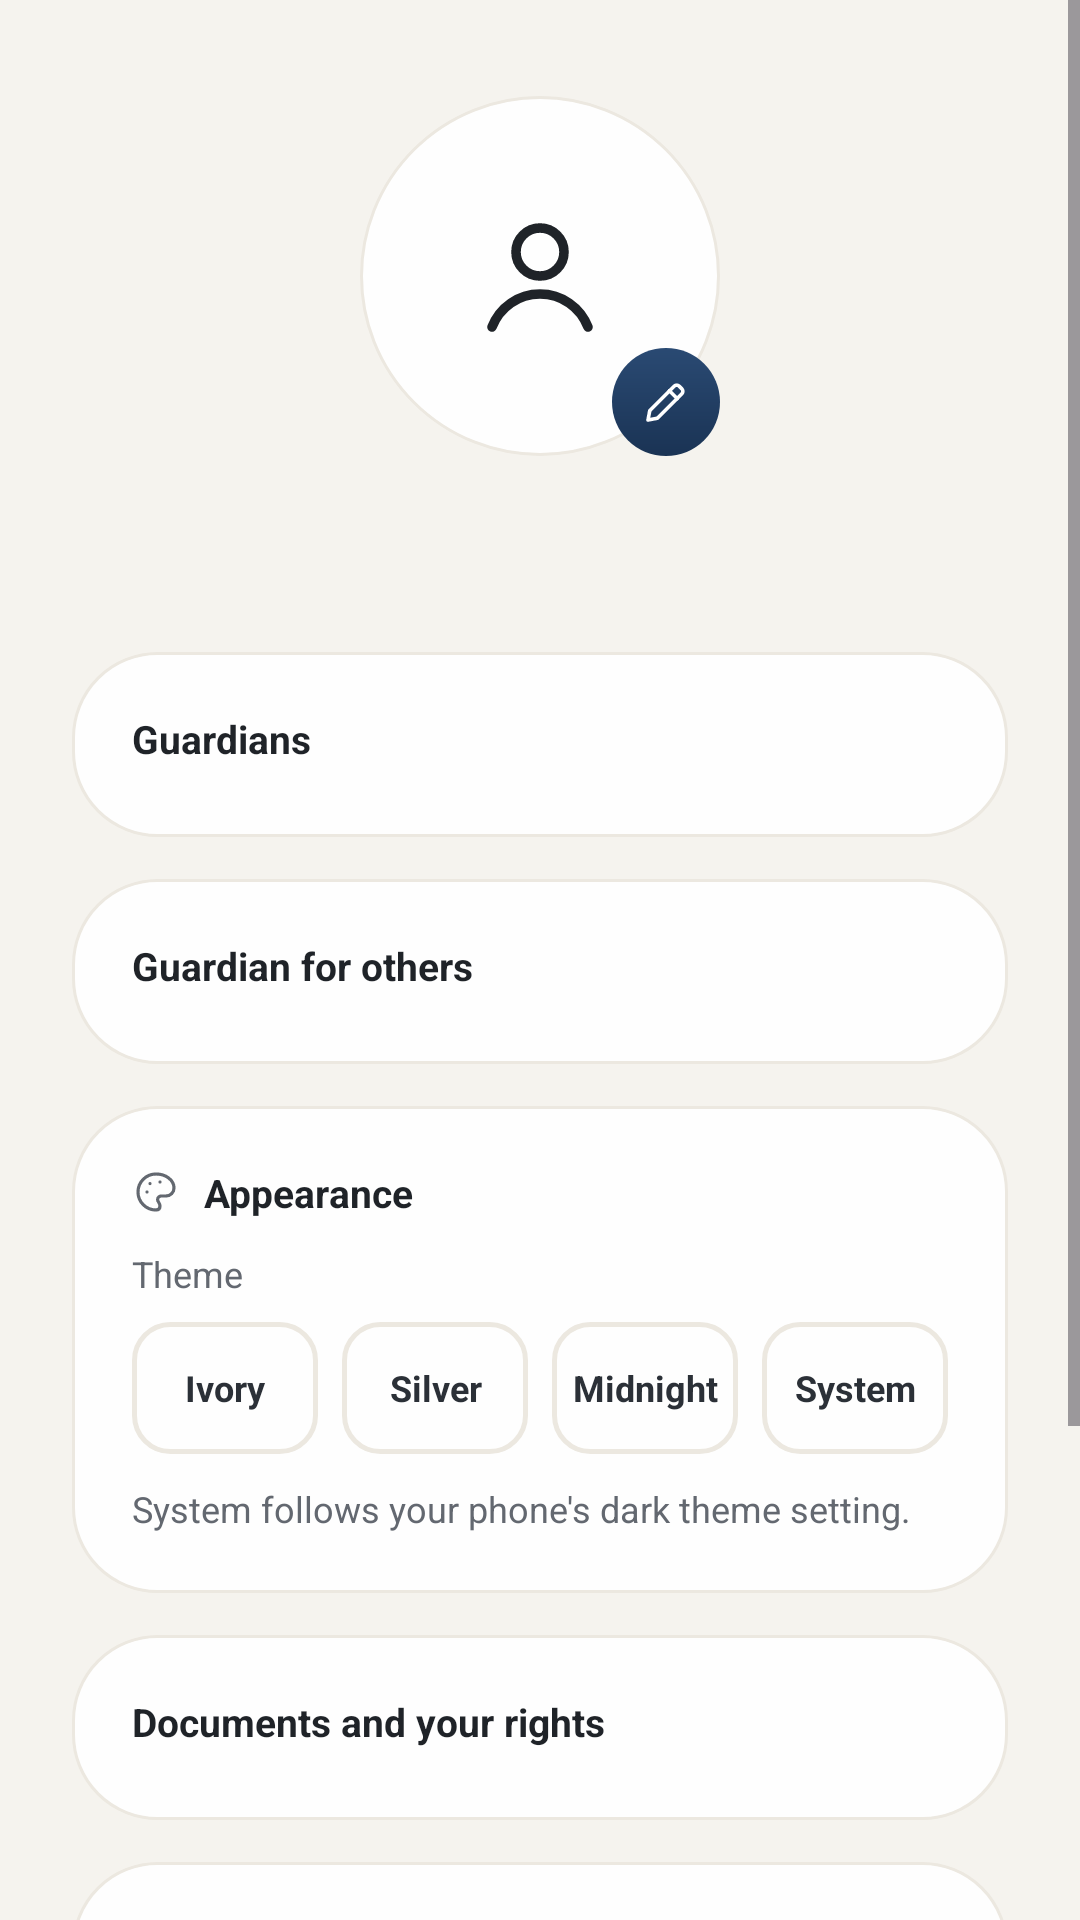

Named icons in this screenshot (1080x1920) and their bounding boxes, {"left": x1, "top": y1, "right": x2, "bottom": y2}:
palette: {"left": 136, "top": 1172, "right": 176, "bottom": 1212}
pencil: {"left": 646, "top": 383, "right": 685, "bottom": 422}
user: {"left": 487, "top": 223, "right": 593, "bottom": 332}
